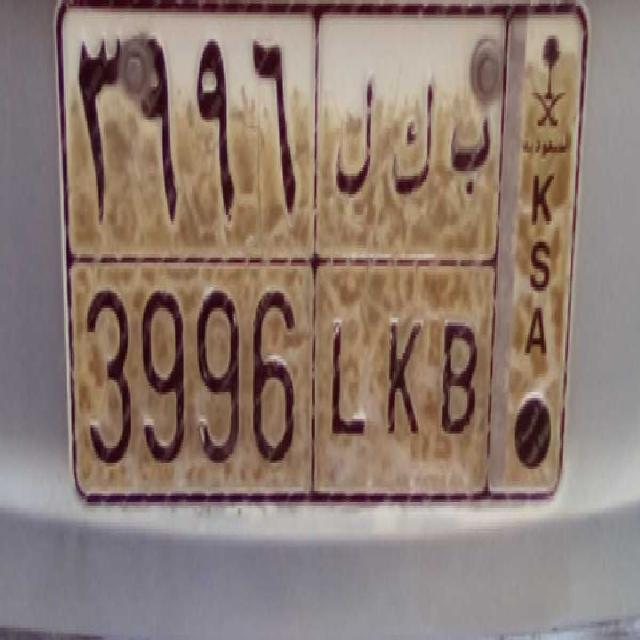license_plate: (65, 248, 484, 513)
